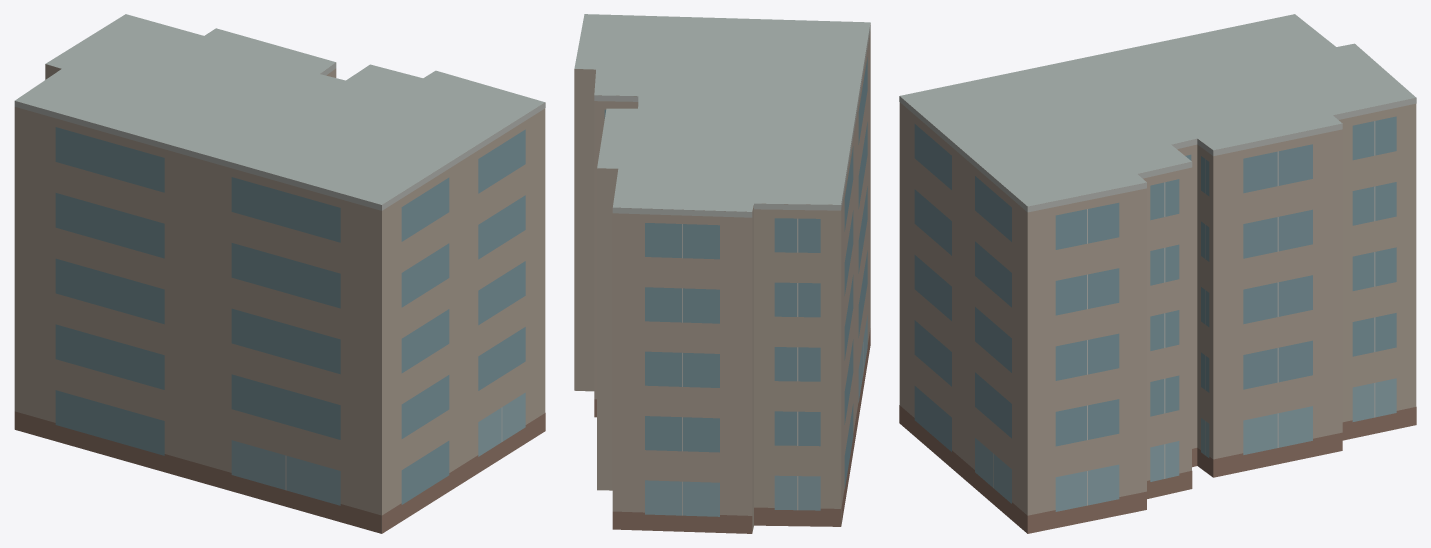
The model's file is survey-upis-33031008.glb.
3 views of the same model, side by side, from view 1: azimuth 30°, elevation 25°; view 2: azimuth 150°, elevation 25°; view 3: azimuth 270°, elevation 25° (orthographic). The views are drawn at different scales.
Visible parts, largest first — view 1: survey-upis-33031008.tmp; view 2: survey-upis-33031008.tmp; view 3: survey-upis-33031008.tmp.
Part boxes in pixels (x1,y1,x2,y2): survey-upis-33031008.tmp: (14, 14, 545, 533); survey-upis-33031008.tmp: (574, 14, 870, 533); survey-upis-33031008.tmp: (899, 14, 1416, 533).
Size of the model in its own units: 17.17 by 13.6 by 19.48.
